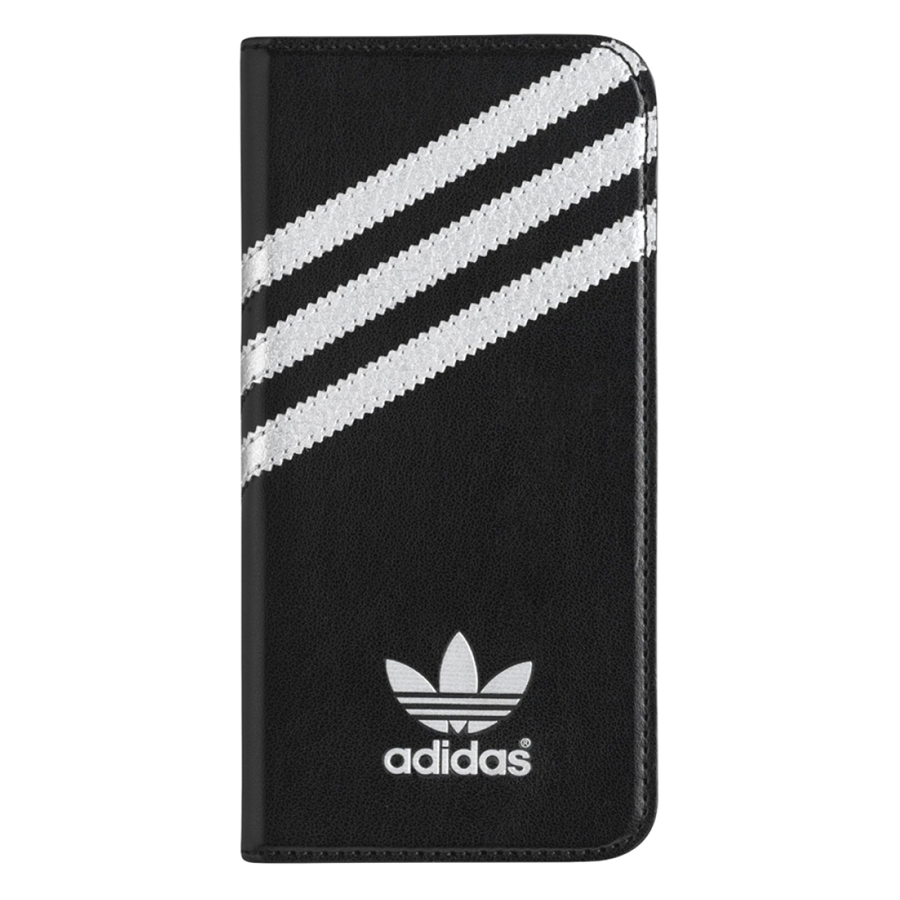Adidas: (381, 621, 538, 784)
